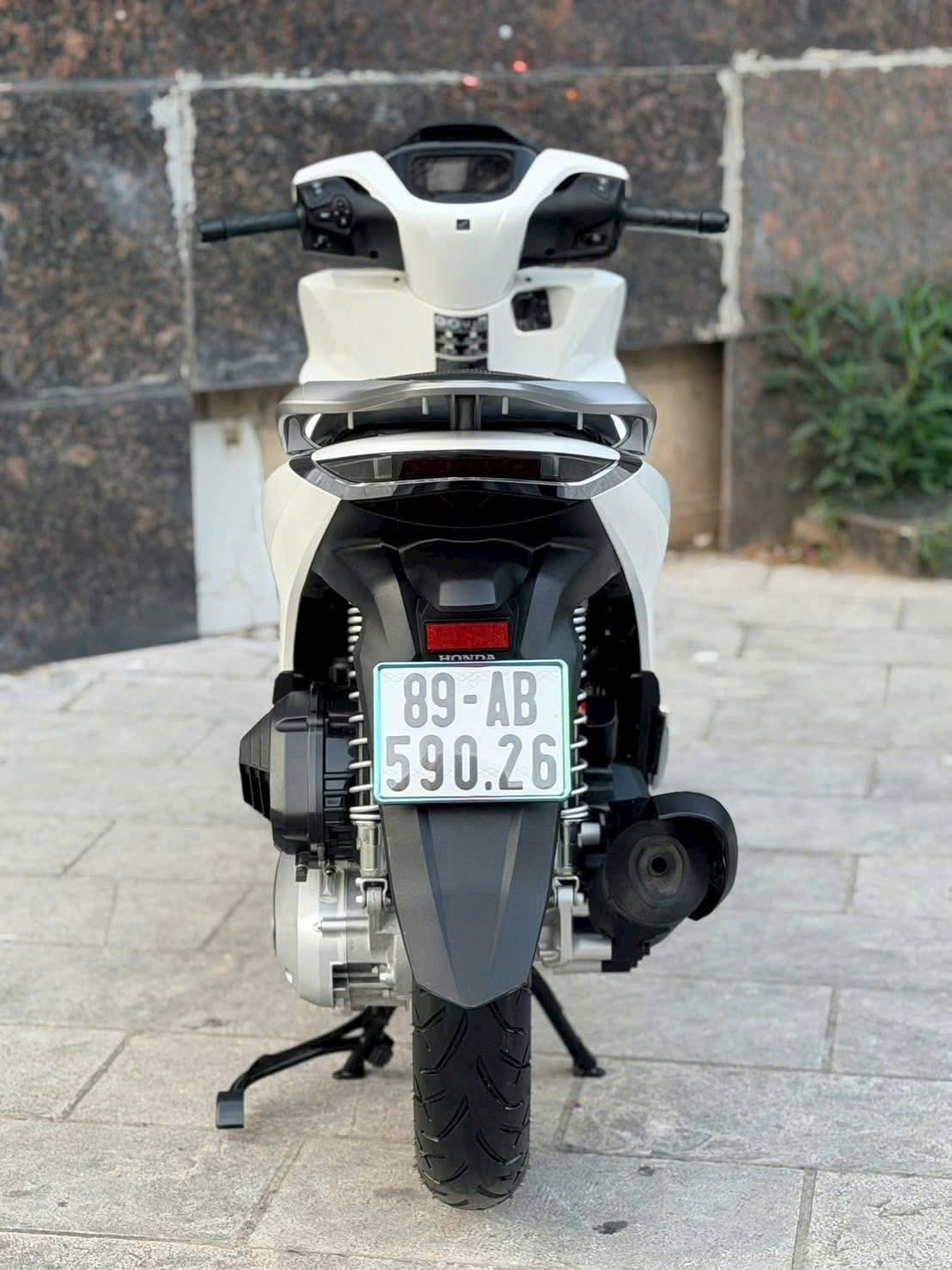Bien-so: (372, 657, 577, 811)
